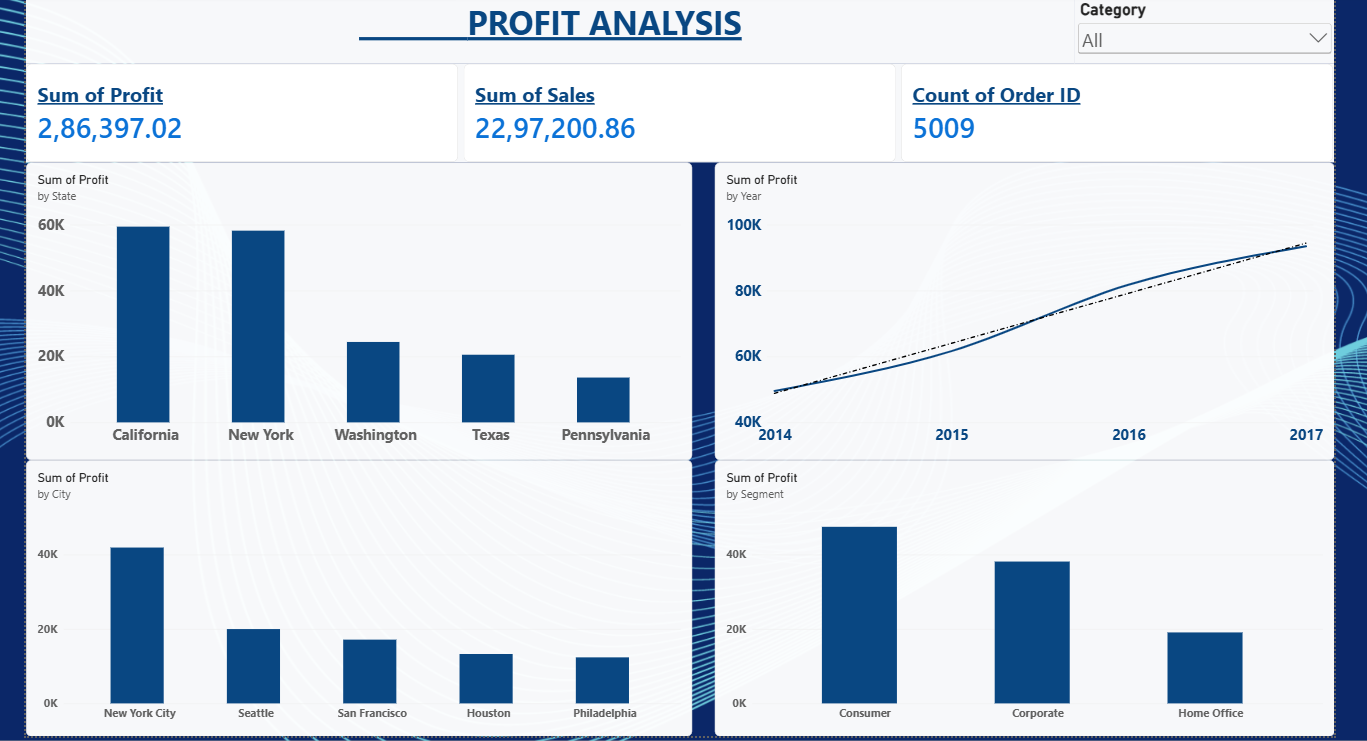

The dashboard page shown, as its layout file describes it:
{"tool":"powerbi","page":{"name":"profit analysis","canvas":[1920,1080],"ordinal":3},"visuals":[{"type":"textbox","box":[0,0,1538.9,93.5],"z":0},{"type":"clusteredColumnChart","fields":{"Category":["Customer.State"],"Y":["Sum(Orders.Profit)"]},"box":[0,238.5,977.7,436.6],"z":1000},{"type":"lineChart","fields":{"Category":["Orders.Order Date.Variation.Date Hierarchy.Year","Orders.Order Date.Variation.Date Hierarchy.Quarter","Orders.Order Date.Variation.Date Hierarchy.Month","Orders.Order Date.Variation.Date Hierarchy.Day"],"Y":["Sum(Orders.Profit)"]},"box":[1010.7,238.5,909.8,436.6],"z":2000},{"type":"clusteredColumnChart","fields":{"Category":["Customer.City"],"Y":["Sum(Orders.Profit)"]},"box":[0,675,977.7,405.4],"z":3000},{"type":"clusteredColumnChart","fields":{"Category":["Customer.Segment"],"Y":["Sum(Orders.Profit)"]},"box":[1010.7,675,909.8,405.4],"z":4000},{"type":"slicer","fields":{"Values":["Product.Category"]},"box":[1538.9,0,381.5,93.5],"z":5000},{"type":"cardVisual","fields":{"Data":["Sum(Orders.Profit)","Sum(Orders.Sales)","Count(Orders.Order ID)"]},"box":[0,93.5,1920.5,144.9],"z":6000}]}

Visuals, with their boxes on the page's 1920x1080 design canvas (x1, y1, x2, y2). These are canvas units, not pixel positions in the 1367x741 screenshot, which may show the page scaled, cropped or inside an application window:
textbox: Rect(0, 0, 1539, 94)
clusteredColumnChart - Customer.State x Sum(Orders.Profit): Rect(0, 238, 978, 675)
lineChart - Orders.Order Date.Variation.Date Hierarchy.Year x Orders.Order Date.Variation.Date Hierarchy.Quarter: Rect(1011, 238, 1920, 675)
clusteredColumnChart - Customer.City x Sum(Orders.Profit): Rect(0, 675, 978, 1080)
clusteredColumnChart - Customer.Segment x Sum(Orders.Profit): Rect(1011, 675, 1920, 1080)
slicer - Product.Category: Rect(1539, 0, 1920, 94)
cardVisual - Sum(Orders.Profit) x Sum(Orders.Sales): Rect(0, 94, 1920, 238)
